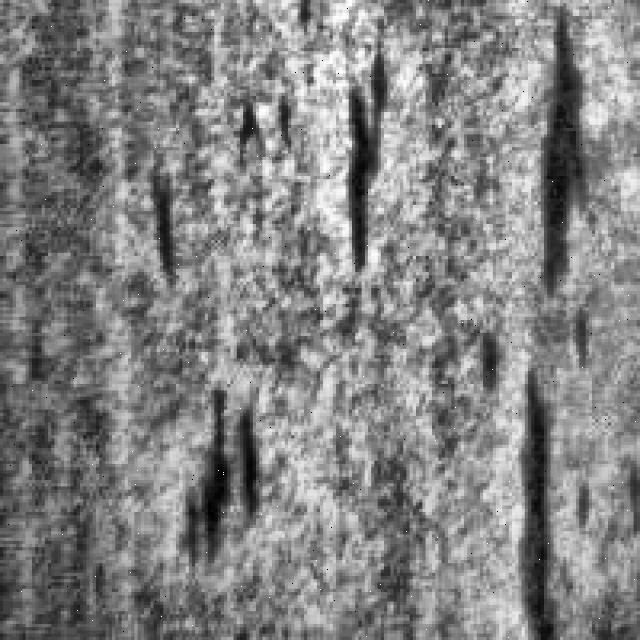Patches: (522, 3, 618, 294), (327, 25, 422, 278), (506, 348, 586, 630), (176, 378, 275, 586), (134, 134, 208, 320), (234, 93, 308, 173)
